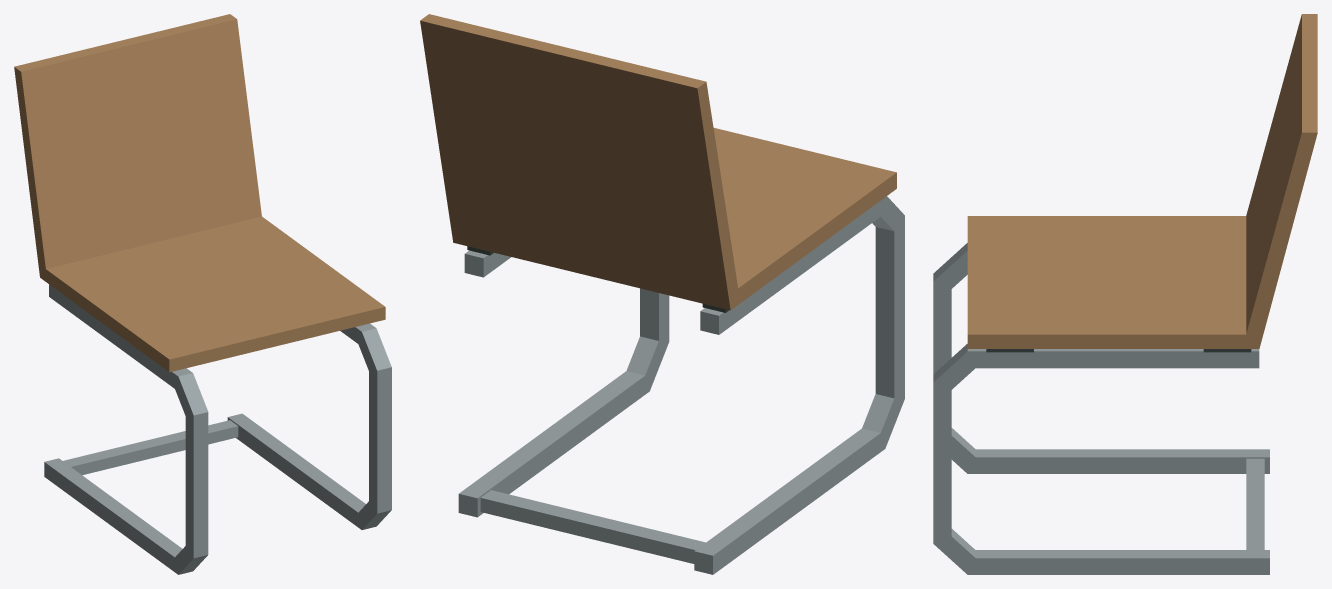
3 views of the same model, side by side, from view 1: azimuth 30°, elevation 25°; view 2: azimuth 150°, elevation 25°; view 3: azimuth 270°, elevation 25° (orthographic). The views are drawn at different scales.
Visible parts, largest first — view 1: WholeContinuousSeatAndBackShell, LeftWholeReturnCantileverFrame, RightWholeReturnCantileverFrame, WholeRearGroundReturnCrossTie; view 2: WholeContinuousSeatAndBackShell, LeftWholeReturnCantileverFrame, RightWholeReturnCantileverFrame, WholeRearGroundReturnCrossTie; view 3: WholeContinuousSeatAndBackShell, RightWholeReturnCantileverFrame, LeftWholeReturnCantileverFrame, WholeRearGroundReturnCrossTie.
Boxes of the visible parts, box(x1,y1,x2,y2) form: WholeContinuousSeatAndBackShell: box(14, 14, 385, 372); LeftWholeReturnCantileverFrame: box(44, 284, 208, 574); RightWholeReturnCantileverFrame: box(227, 323, 391, 529); WholeRearGroundReturnCrossTie: box(63, 420, 238, 475); WholeContinuousSeatAndBackShell: box(420, 14, 896, 310); LeftWholeReturnCantileverFrame: box(694, 196, 904, 574); RightWholeReturnCantileverFrame: box(458, 250, 669, 517); WholeRearGroundReturnCrossTie: box(480, 490, 705, 563); WholeContinuousSeatAndBackShell: box(967, 14, 1317, 348); RightWholeReturnCantileverFrame: box(933, 344, 1269, 574); LeftWholeReturnCantileverFrame: box(933, 243, 1269, 473); WholeRearGroundReturnCrossTie: box(1246, 458, 1264, 549).
Size of the model in its own units: 0.53 by 0.93 by 0.725.
